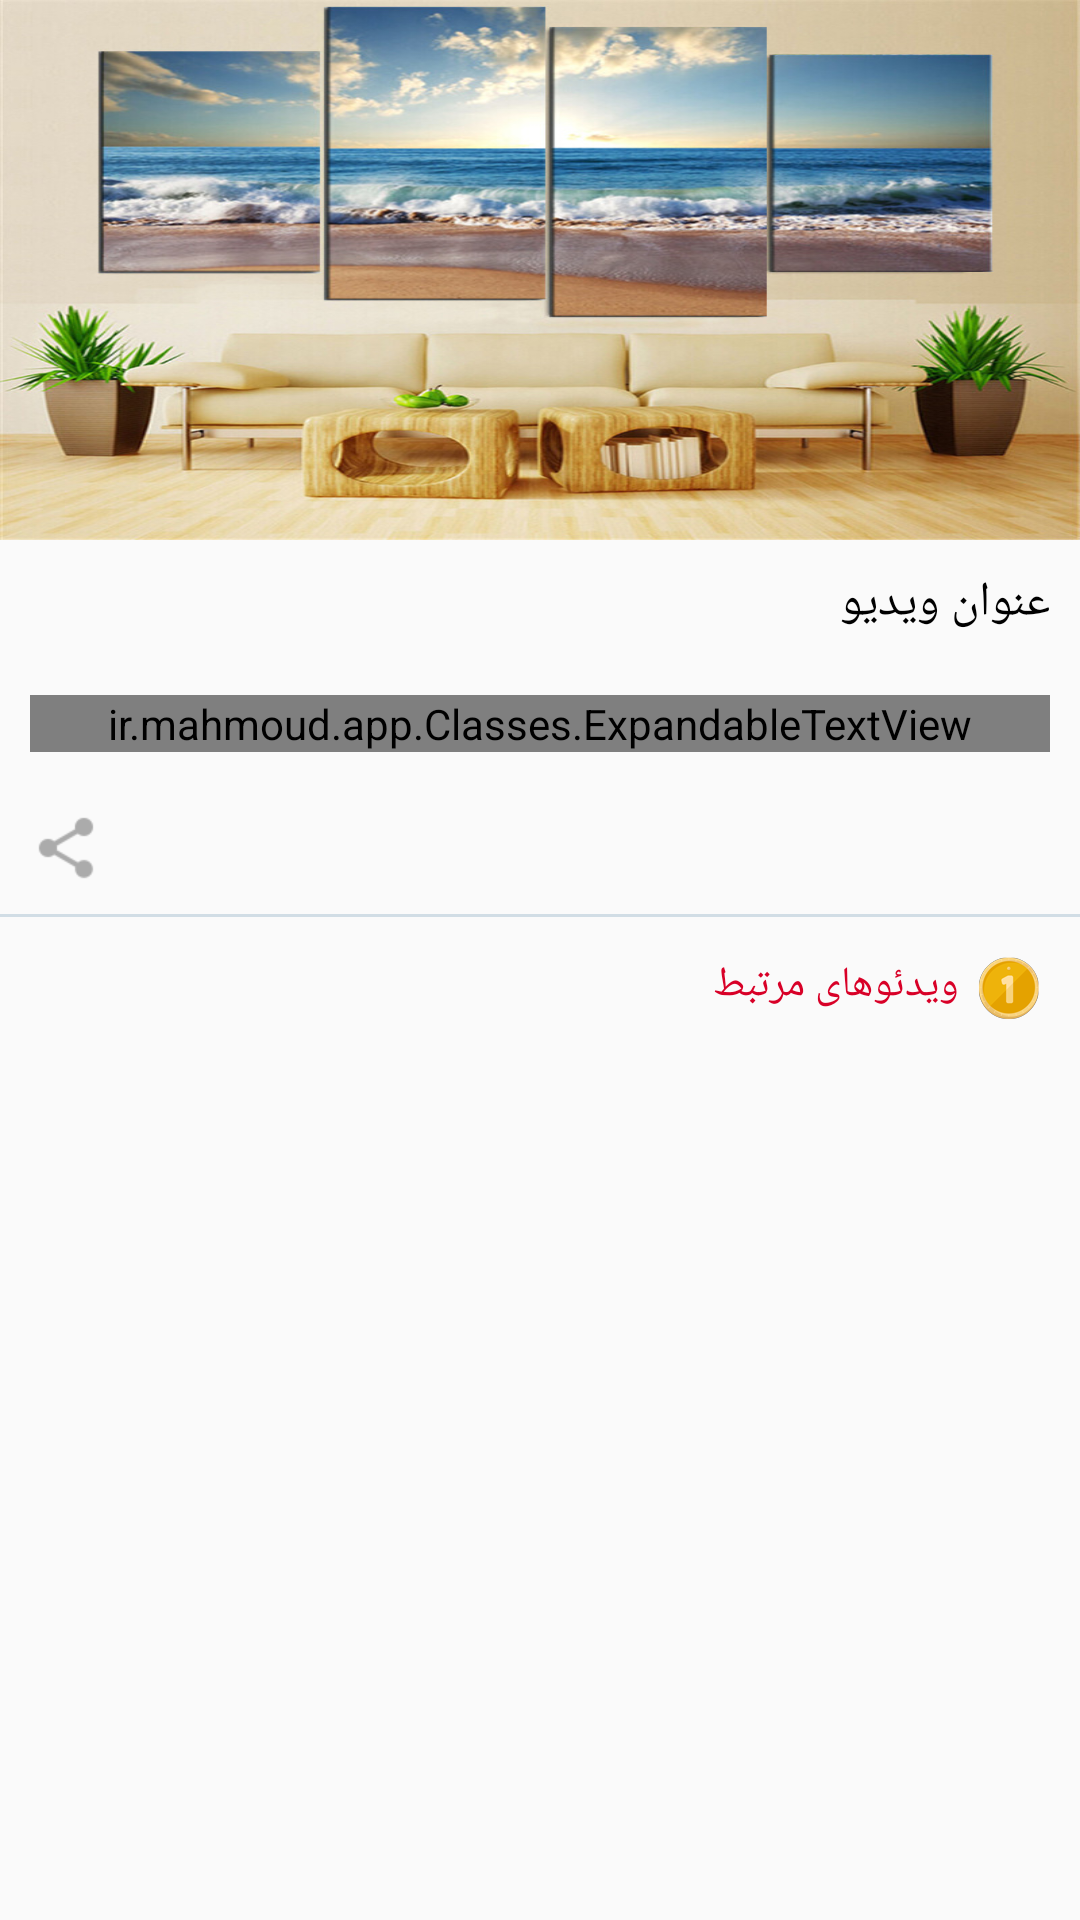

Point at icon controls on the screen. Image size 1080×1920, points as (x,y).
share: (66,848)
